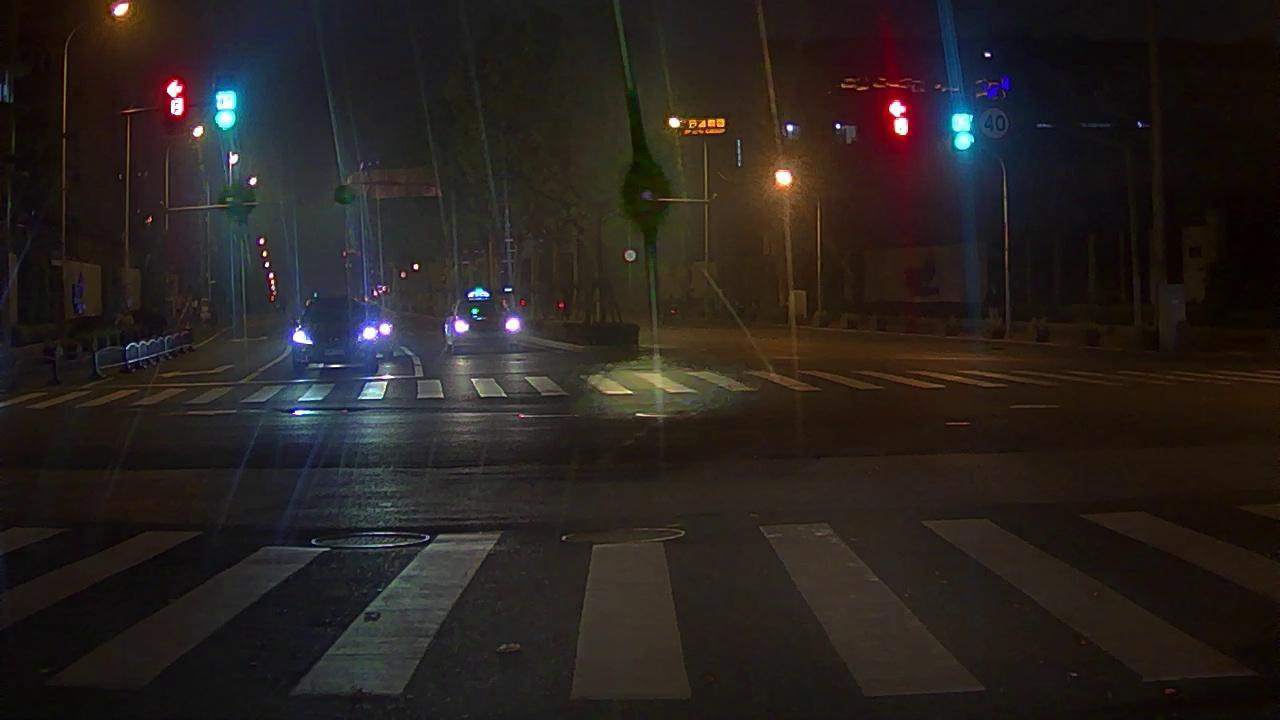traffic_light: (951, 114, 974, 149), (887, 101, 908, 139), (215, 88, 235, 127), (167, 81, 184, 117)
